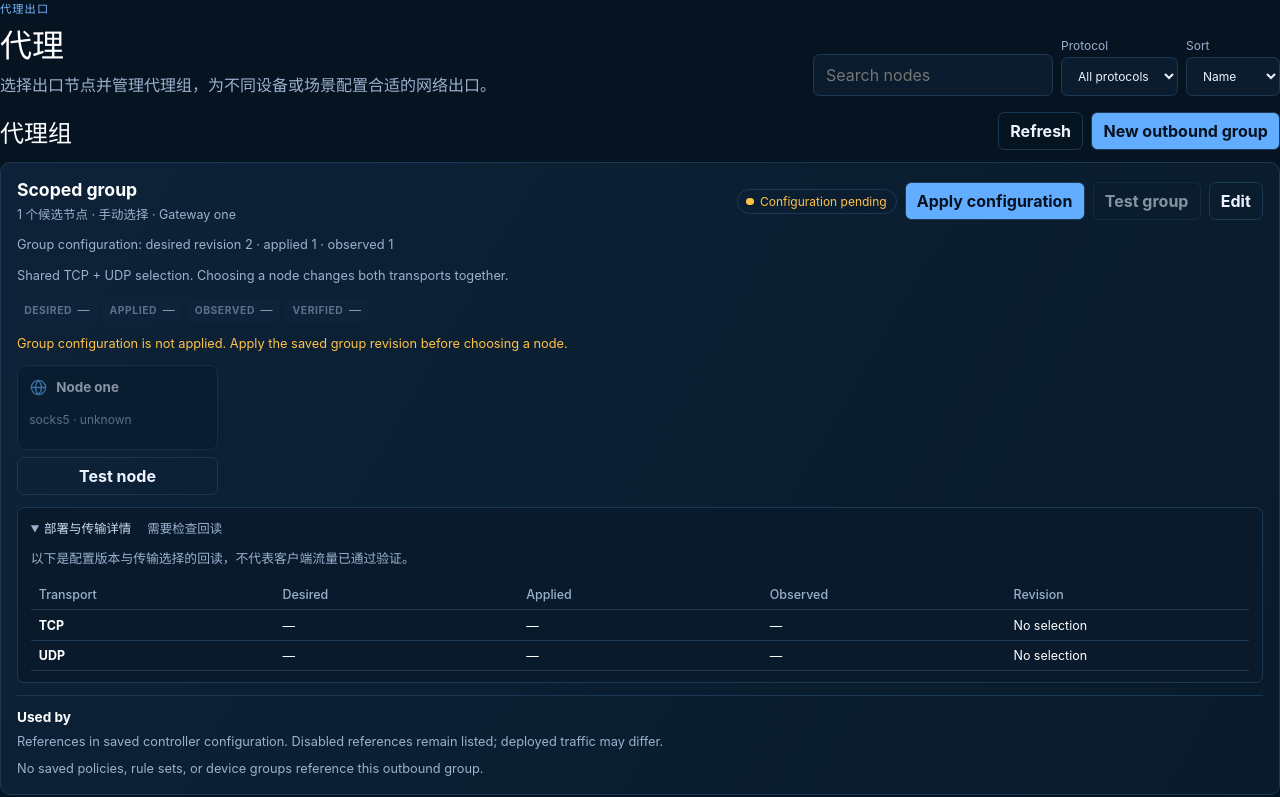
requires applied group readback before selecting and verifies publication after an edit
This screenshot has width=1280, height=797.
Expected: the button with class "node-card" is disabled, left=17, top=365, right=218, bottom=450
Click the button with aria-label "Apply configuration for Scoped group". click: (995, 201)
box: left=904, top=182, right=1085, bottom=220
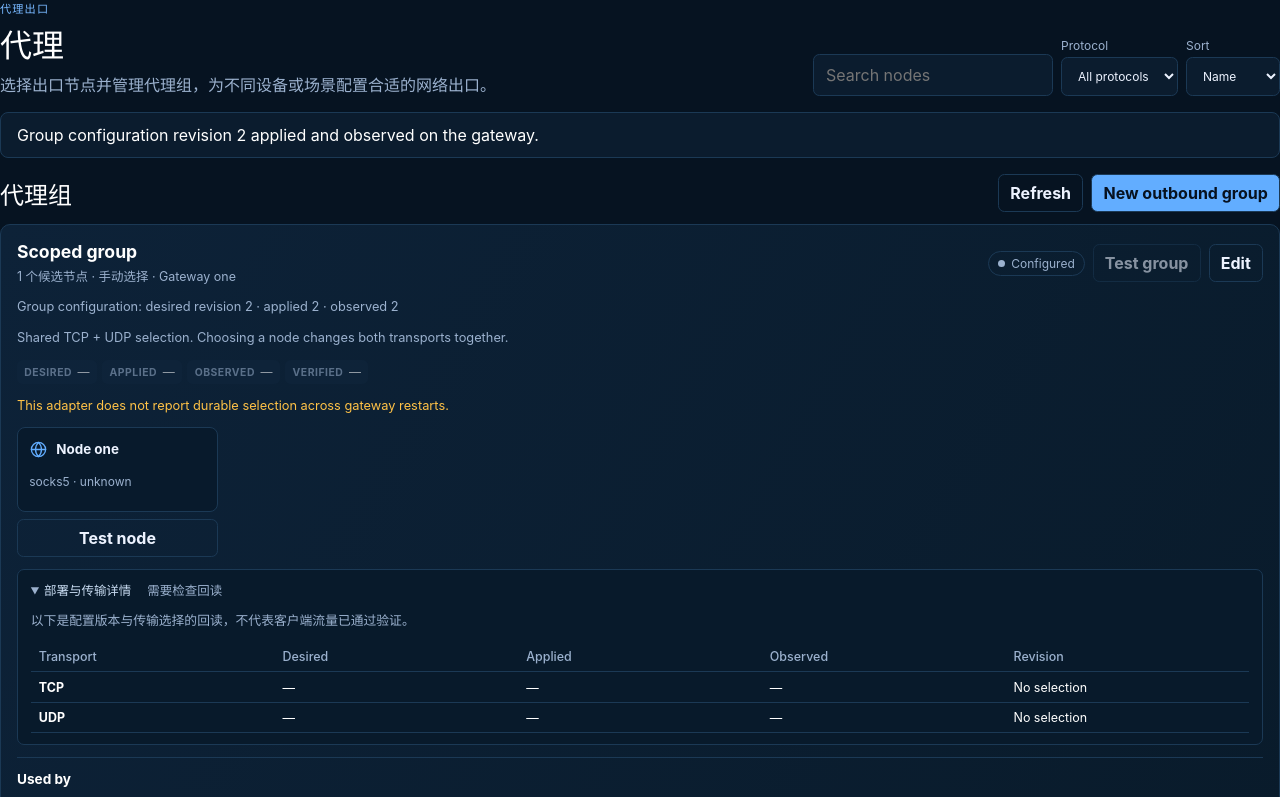
Expected: the text "Group configuration revision 2 applied and observed" is shown, left=17, top=125, right=539, bottom=145
Expected: the button with class "node-card" is enabled, left=17, top=427, right=218, bottom=512
